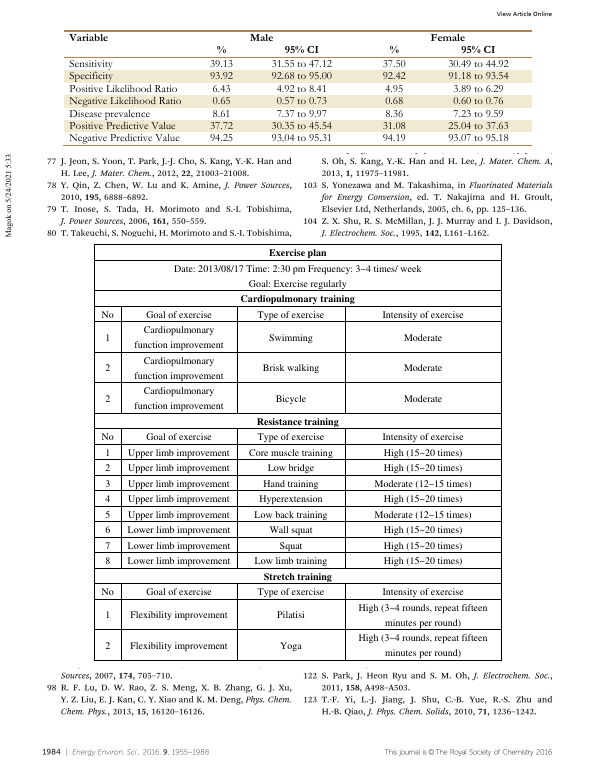bordered: (93, 242, 501, 660)
borderless: (64, 28, 532, 145)
cell: (172, 262, 422, 290), (357, 631, 488, 660), (357, 601, 488, 629), (133, 323, 224, 352), (133, 354, 224, 382), (133, 385, 224, 413), (239, 292, 355, 306), (126, 523, 231, 537), (126, 461, 230, 475), (68, 96, 182, 108), (126, 539, 231, 552), (126, 555, 231, 568), (126, 446, 230, 459), (126, 477, 230, 490), (126, 493, 230, 506), (126, 508, 230, 521), (68, 133, 180, 145), (68, 83, 178, 95), (68, 121, 176, 133), (373, 477, 472, 490), (373, 508, 472, 521), (129, 609, 228, 622), (129, 639, 228, 652), (381, 430, 464, 444), (382, 461, 463, 475), (382, 523, 463, 537), (247, 446, 333, 459), (255, 415, 339, 428), (381, 308, 464, 321), (381, 586, 464, 599), (382, 446, 463, 459), (382, 493, 463, 506), (382, 539, 463, 552), (382, 555, 463, 568), (68, 108, 150, 120), (253, 508, 328, 521), (253, 555, 328, 568), (256, 430, 325, 444), (145, 430, 212, 444), (262, 570, 332, 583), (256, 308, 325, 321), (256, 586, 325, 599), (145, 308, 212, 321), (145, 586, 212, 599), (258, 493, 323, 506), (267, 246, 327, 260), (261, 361, 320, 375), (270, 59, 332, 71), (447, 59, 509, 71), (270, 71, 332, 83), (447, 71, 509, 83), (270, 121, 332, 133), (447, 121, 509, 133), (270, 133, 332, 145), (447, 133, 509, 145), (262, 477, 319, 490), (266, 461, 315, 475), (268, 523, 313, 537), (275, 83, 327, 95), (452, 83, 504, 95), (275, 96, 327, 108), (452, 96, 504, 108), (275, 108, 327, 120), (452, 108, 504, 120), (267, 331, 313, 344), (402, 361, 443, 375), (68, 59, 113, 71), (68, 71, 113, 83), (402, 331, 443, 344), (402, 392, 443, 405), (274, 392, 307, 405), (68, 32, 109, 42), (275, 609, 305, 622), (429, 32, 465, 42), (278, 539, 303, 552), (283, 45, 319, 54), (460, 45, 496, 54), (278, 639, 302, 652), (208, 59, 233, 71), (381, 59, 406, 71), (208, 71, 233, 83), (381, 71, 406, 83), (208, 121, 233, 133), (381, 121, 406, 133), (208, 133, 233, 145), (381, 133, 406, 145), (248, 32, 274, 42), (211, 83, 231, 95), (211, 96, 231, 108), (211, 108, 231, 120), (384, 83, 403, 95), (384, 96, 403, 108), (384, 108, 403, 120), (100, 430, 114, 444), (100, 308, 114, 321), (100, 586, 114, 599), (215, 45, 226, 54), (388, 45, 399, 54), (104, 361, 111, 375), (104, 461, 111, 475), (104, 523, 111, 537), (104, 331, 111, 344), (104, 392, 111, 405), (104, 446, 111, 459), (104, 477, 111, 490), (104, 493, 111, 506), (104, 508, 111, 521), (104, 539, 111, 552), (104, 555, 111, 568), (104, 609, 111, 622), (104, 639, 111, 652)
